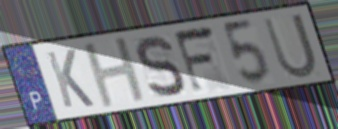5: (218, 16, 271, 89)
F: (171, 22, 218, 97)
H: (81, 34, 150, 111)
K: (43, 47, 97, 110)
S: (133, 34, 187, 101)
U: (260, 11, 320, 82)
